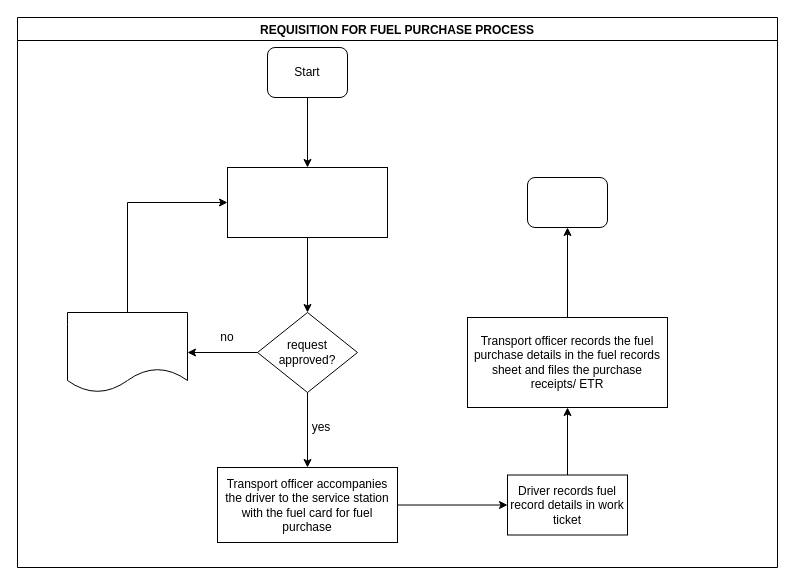
The diagram is 795 pixels wide and 585 high, and some of its shapes have lost their labels. The centre of each missing label's shape, as x and y in pixels:
Comments/queries: point 127,352
Driver fills fuel requisition form and submits to transport office for approval: point 307,202
End: point 567,202
